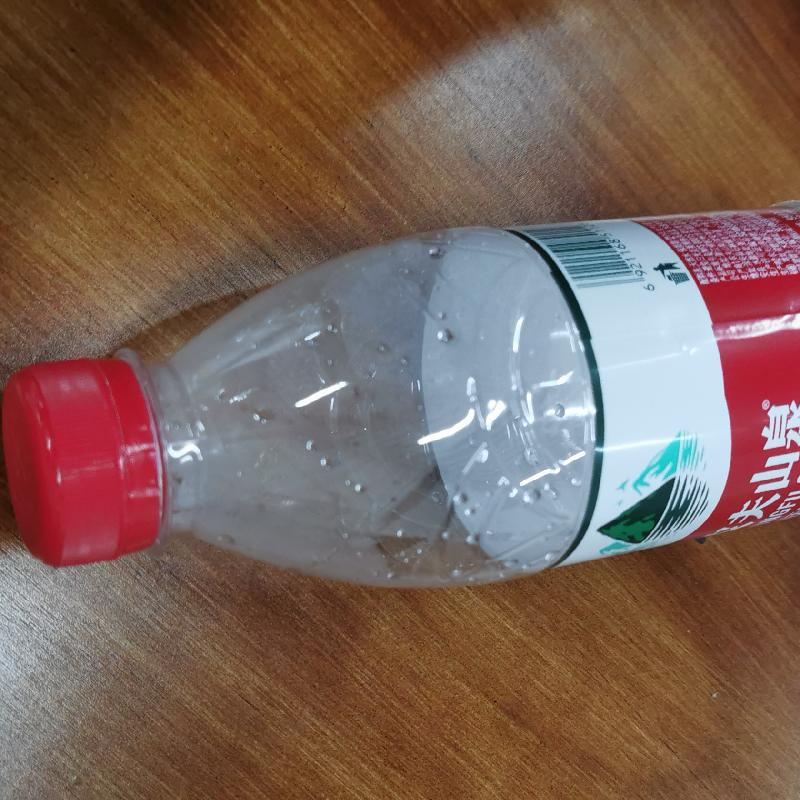bottles: (0, 196, 799, 593)
